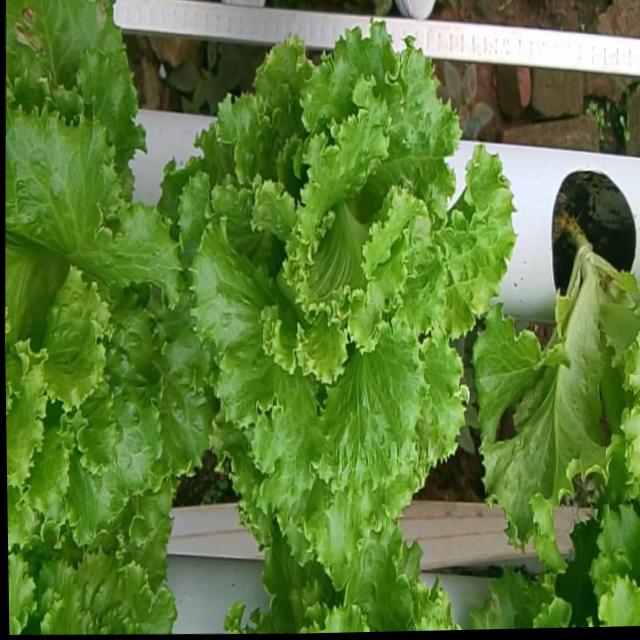Mature: (170, 13, 505, 552), (5, 91, 204, 533)
